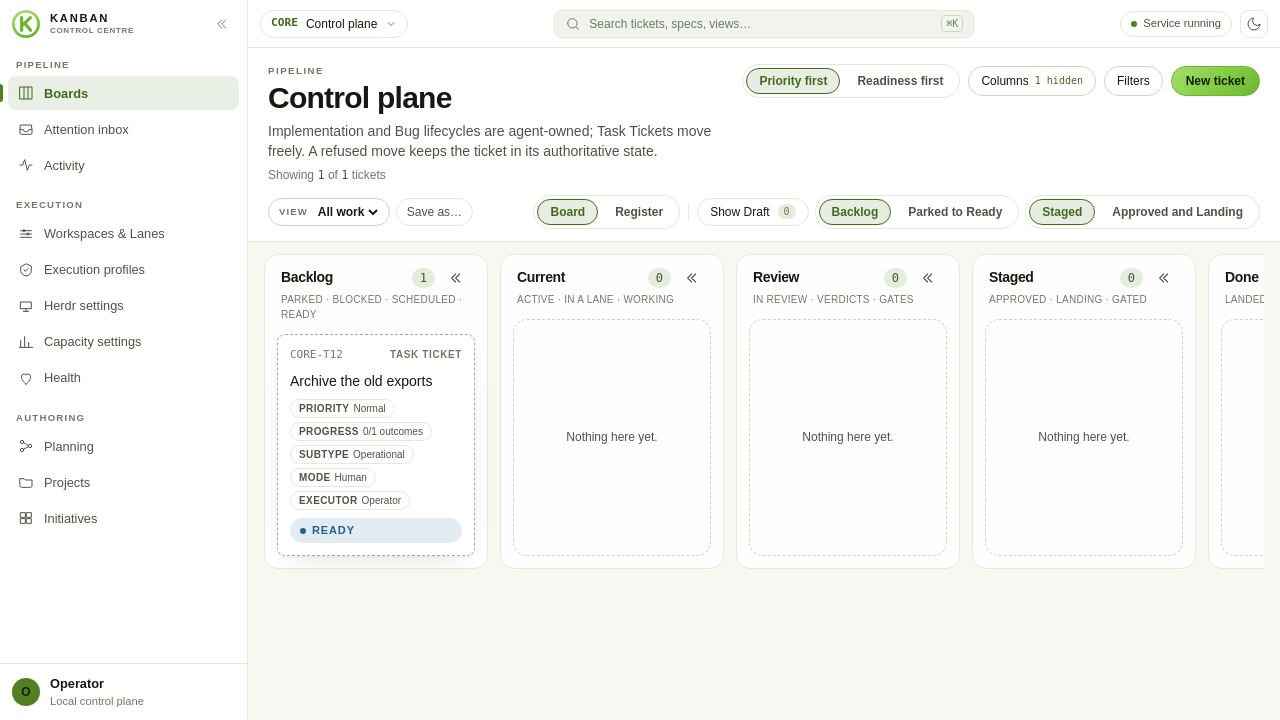
it: the Ticket editor entry points › New ticket on the board opens the dialog on the scoped Project
Click the button with test id "new-ticket" at (1215, 81), box [1171, 66, 1260, 96]
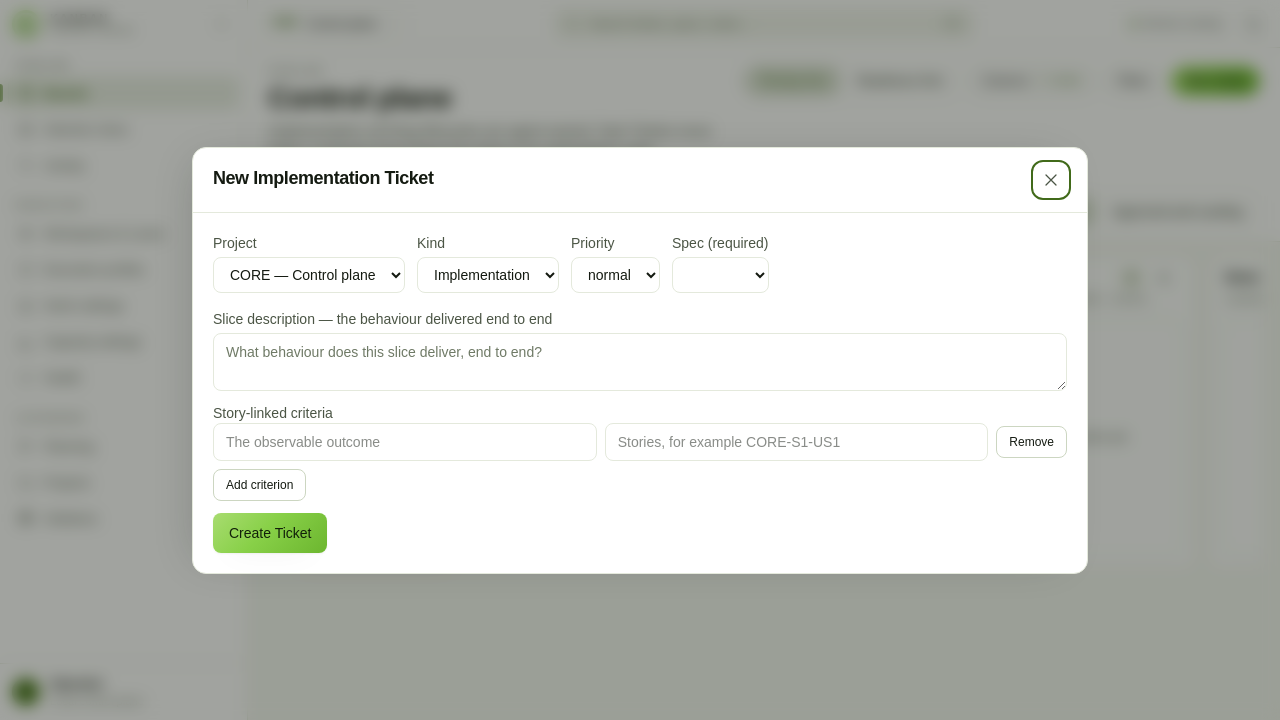
Now the dialog with test id "ticket-dialog" is shown, box [192, 146, 1088, 574]
